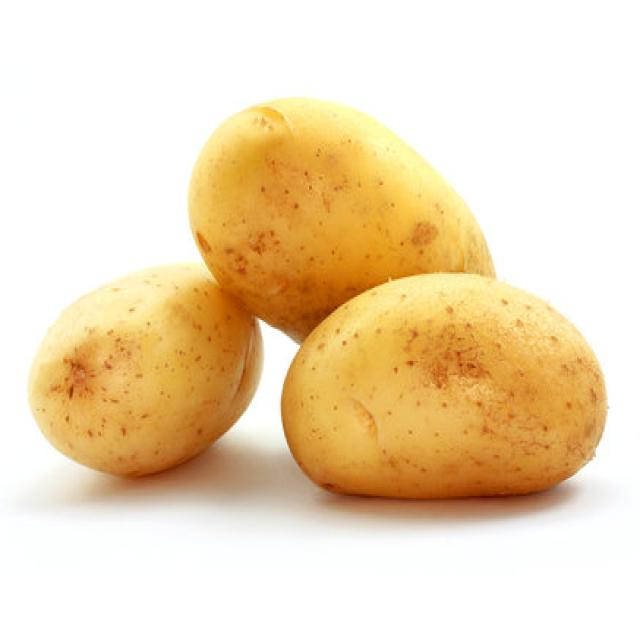Potato: (186, 94, 495, 345), (280, 270, 608, 500), (26, 260, 262, 478)
